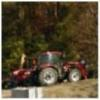tractors: (8, 49, 92, 88)
